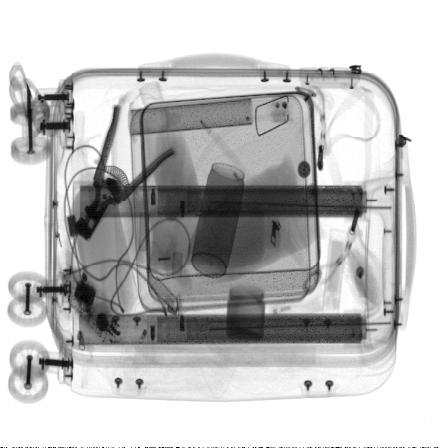Pliers: (76, 104, 175, 241)
